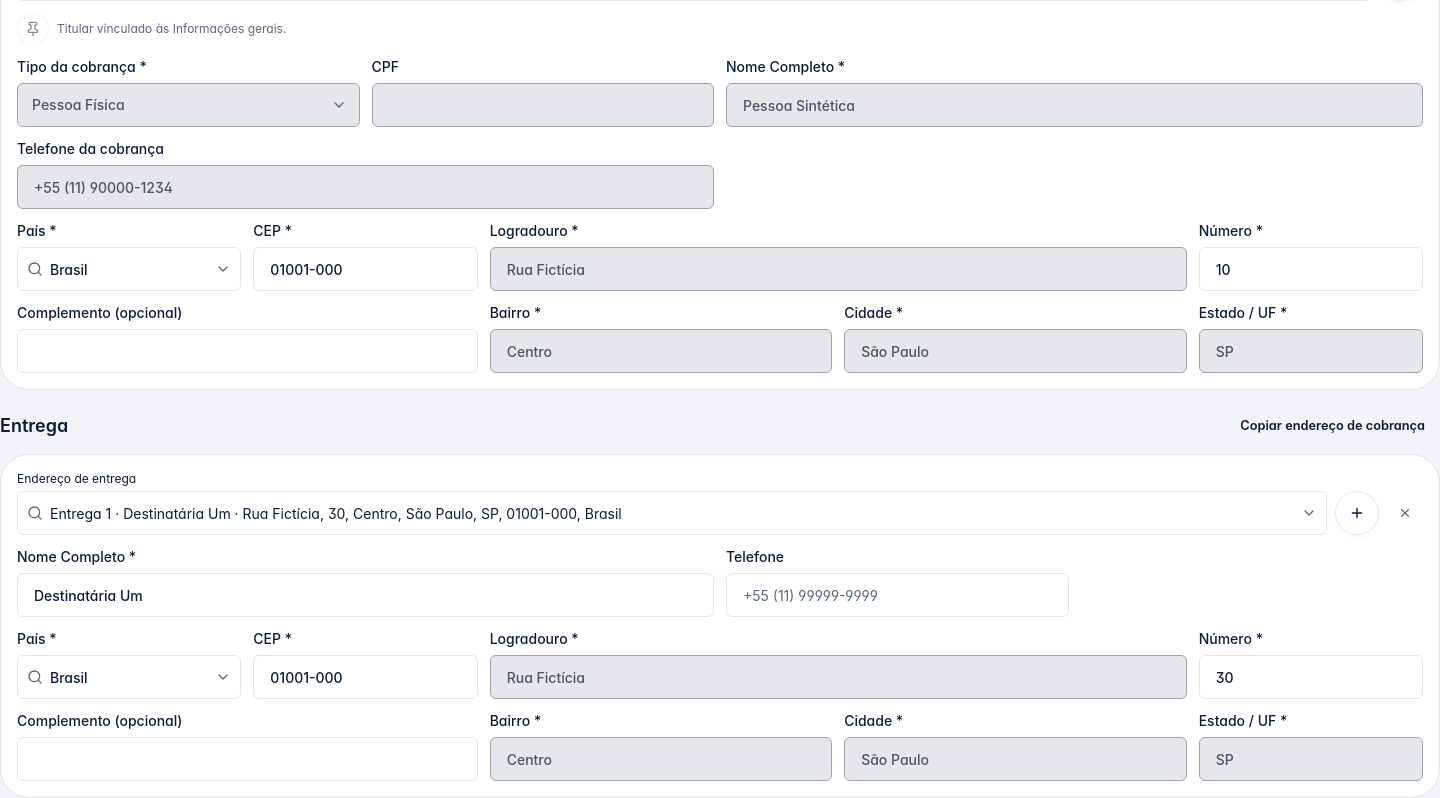
Test: inclusão temporária e endereço postal único › não deixa o CEP incompleto da consulta passar por campos brasileiros somente leitura
The width and height of the screenshot is (1440, 798).
(page scrolled)
Step 1. Click the button named "Adicionar endereço de entrega" → (1357, 513), box [1335,491,1379,535]
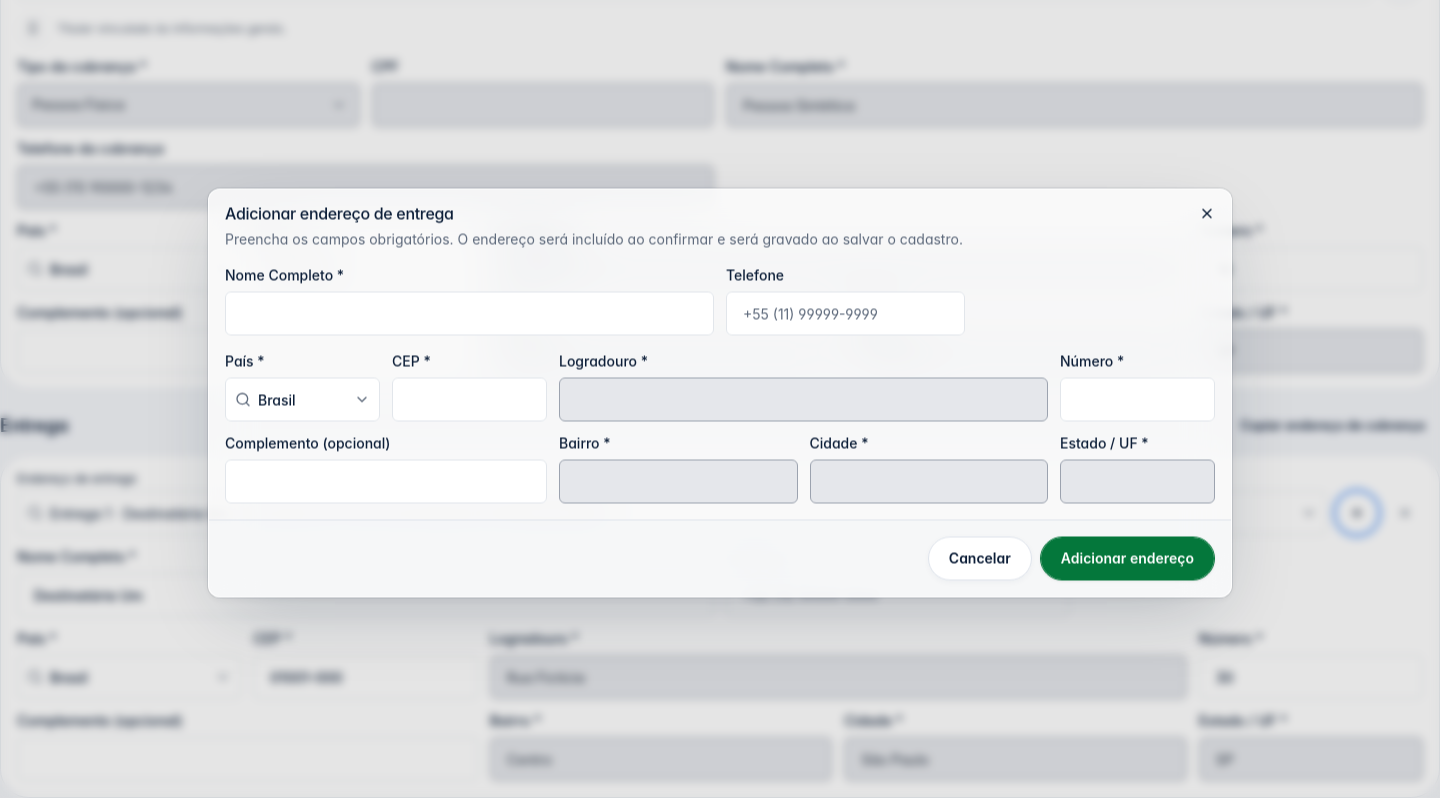
Step 2. Type "Destinatária Completa" into the field labelled "Nome Completo *" → (470, 314), box [225,292,714,336]
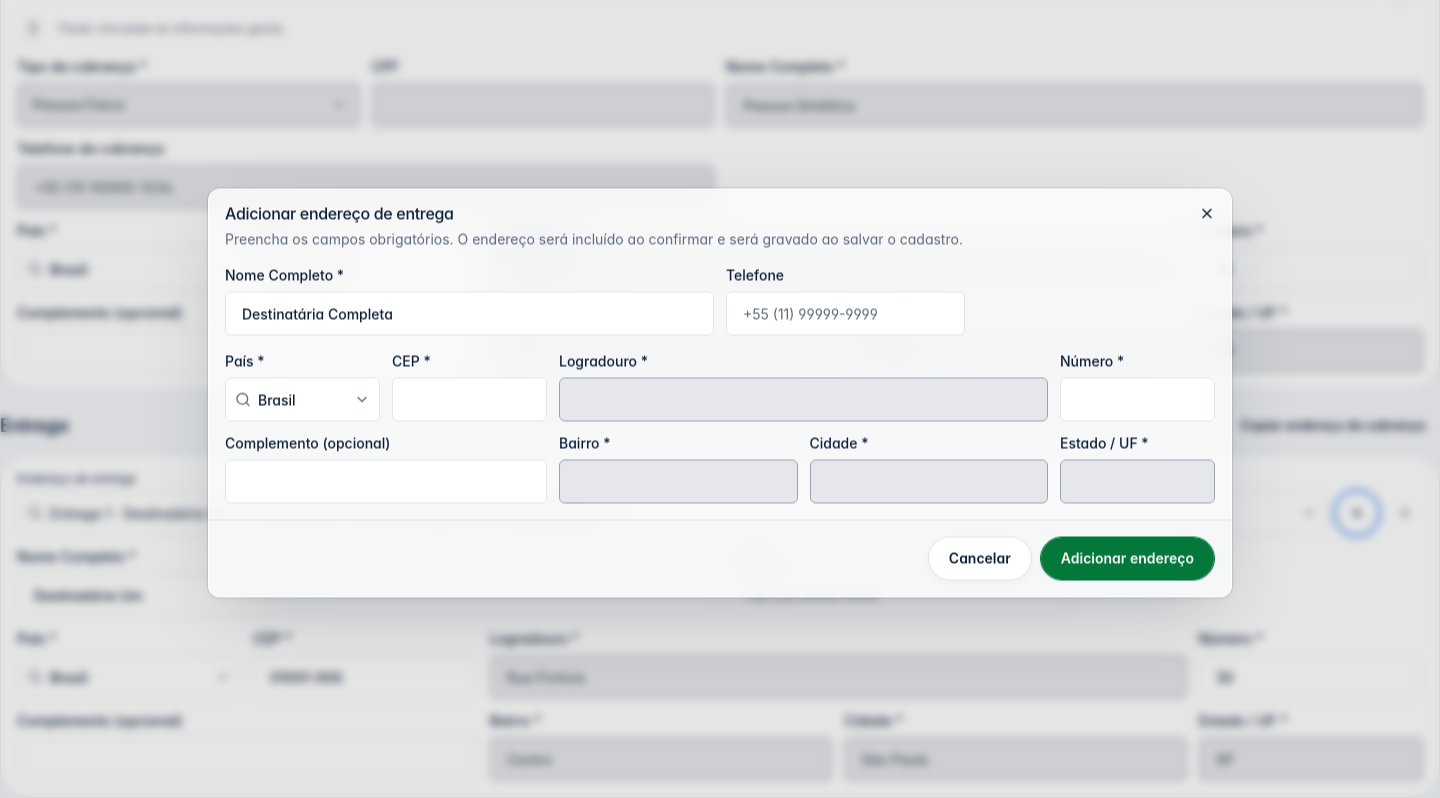
Step 3. Type "01001000" into the field labelled "CEP *" → (470, 400), box [392,378,547,422]
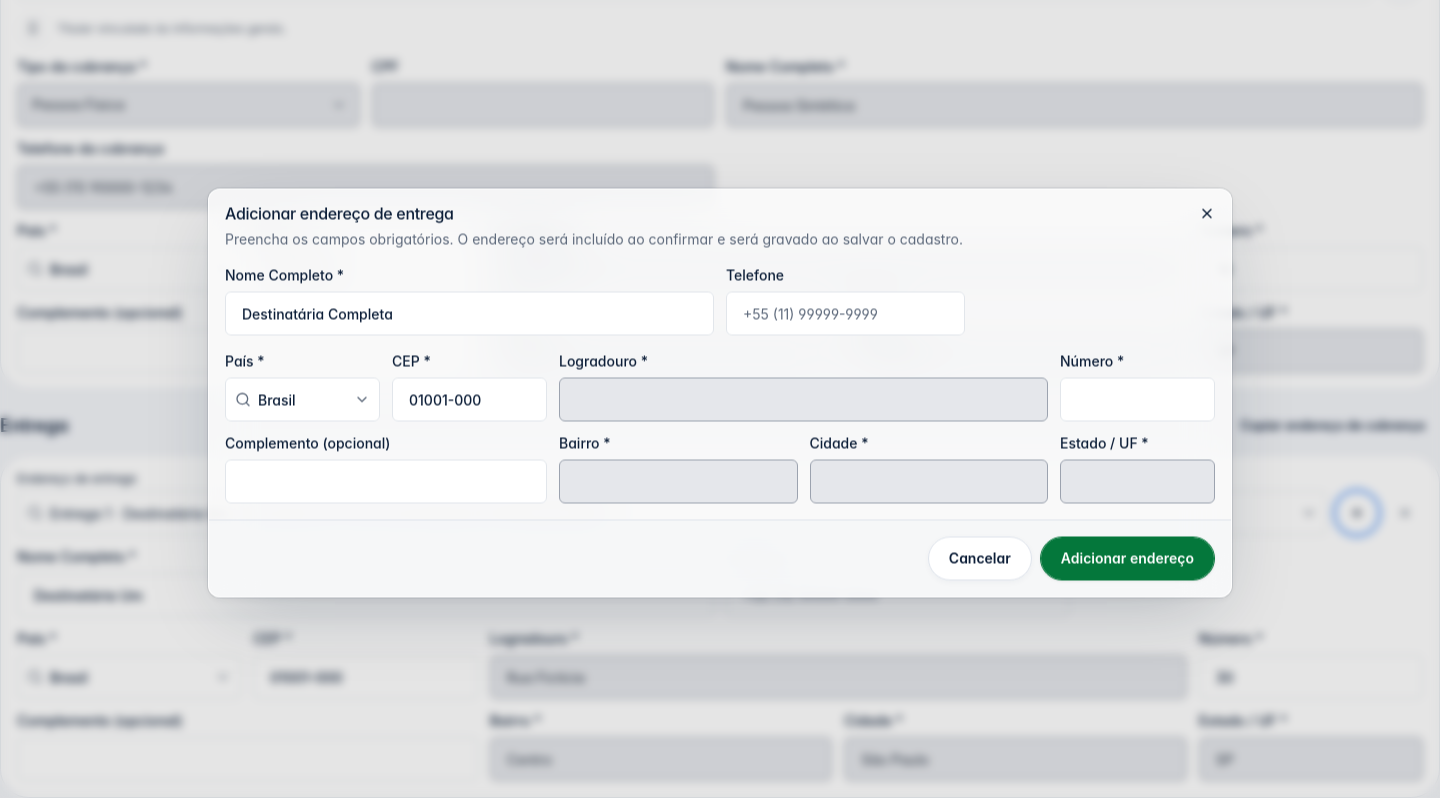
Step 4. Leave the field labelled "CEP *", box [392,378,547,422]
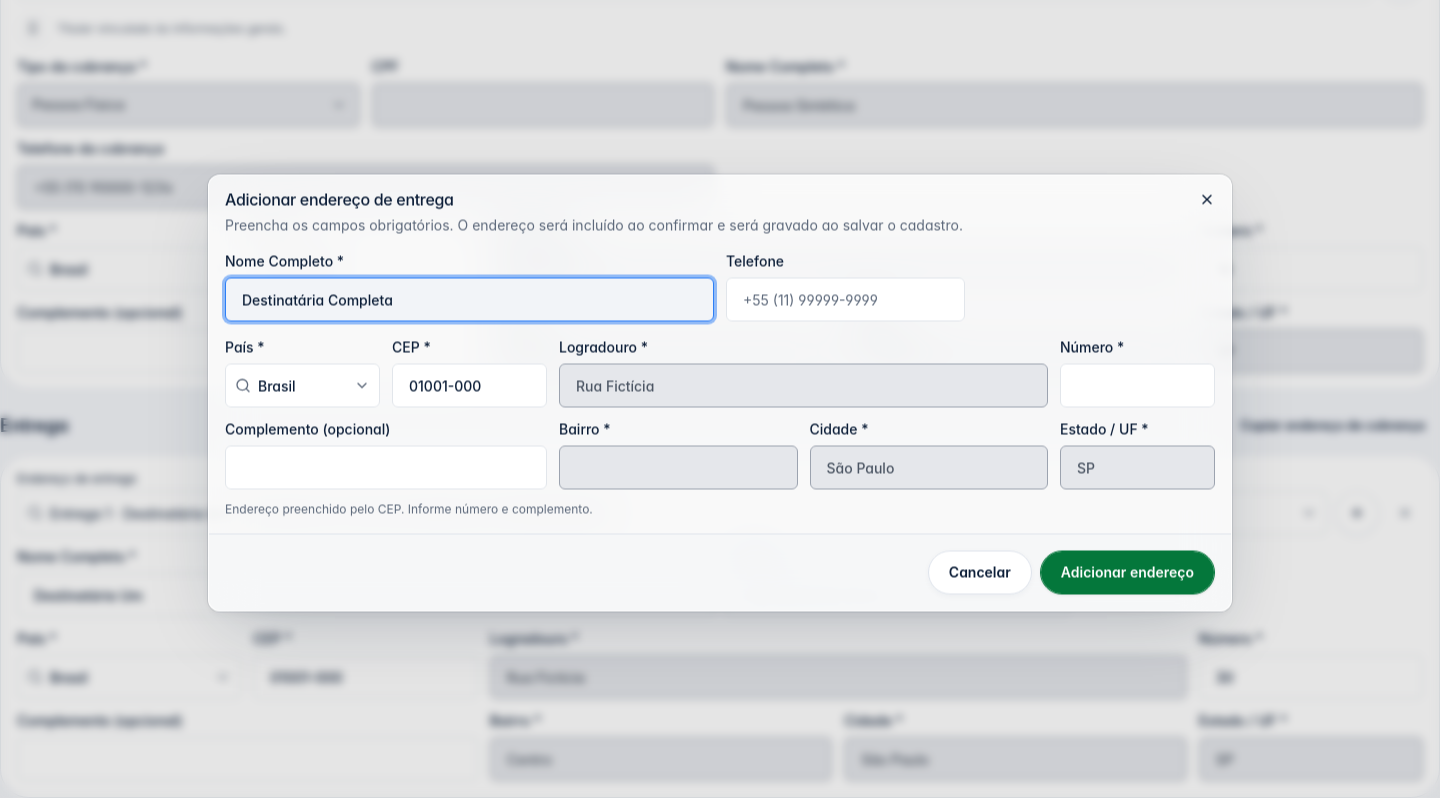
Expected: the field labelled "Logradouro *" holds "Rua Fictícia", [559,364,1048,408]
Step 5. Type "40" into the field labelled "Número *" → (1138, 386), box [1060,364,1215,408]
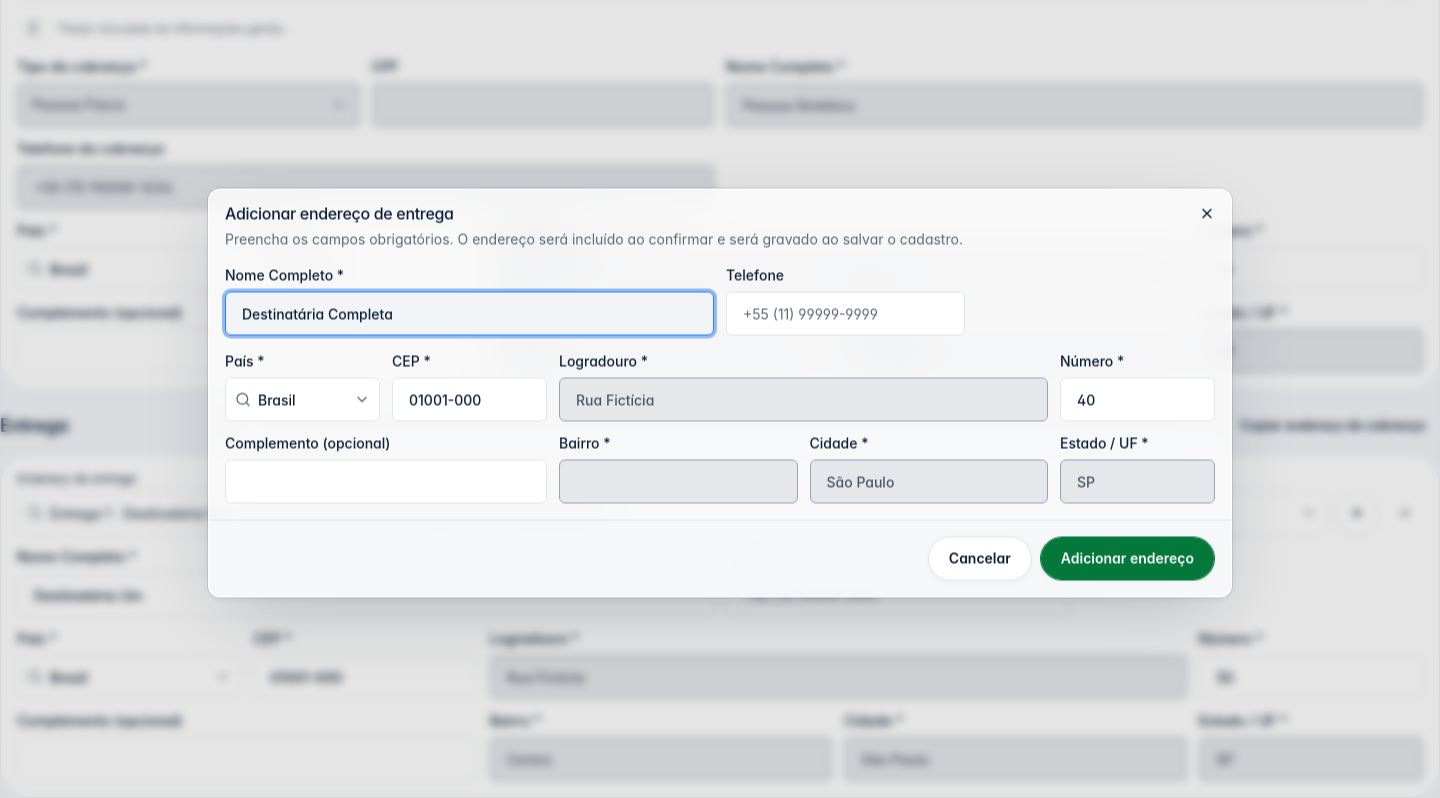
Step 6. Click the button "Adicionar endereço" → (1127, 558), box [1040,536,1215,580]
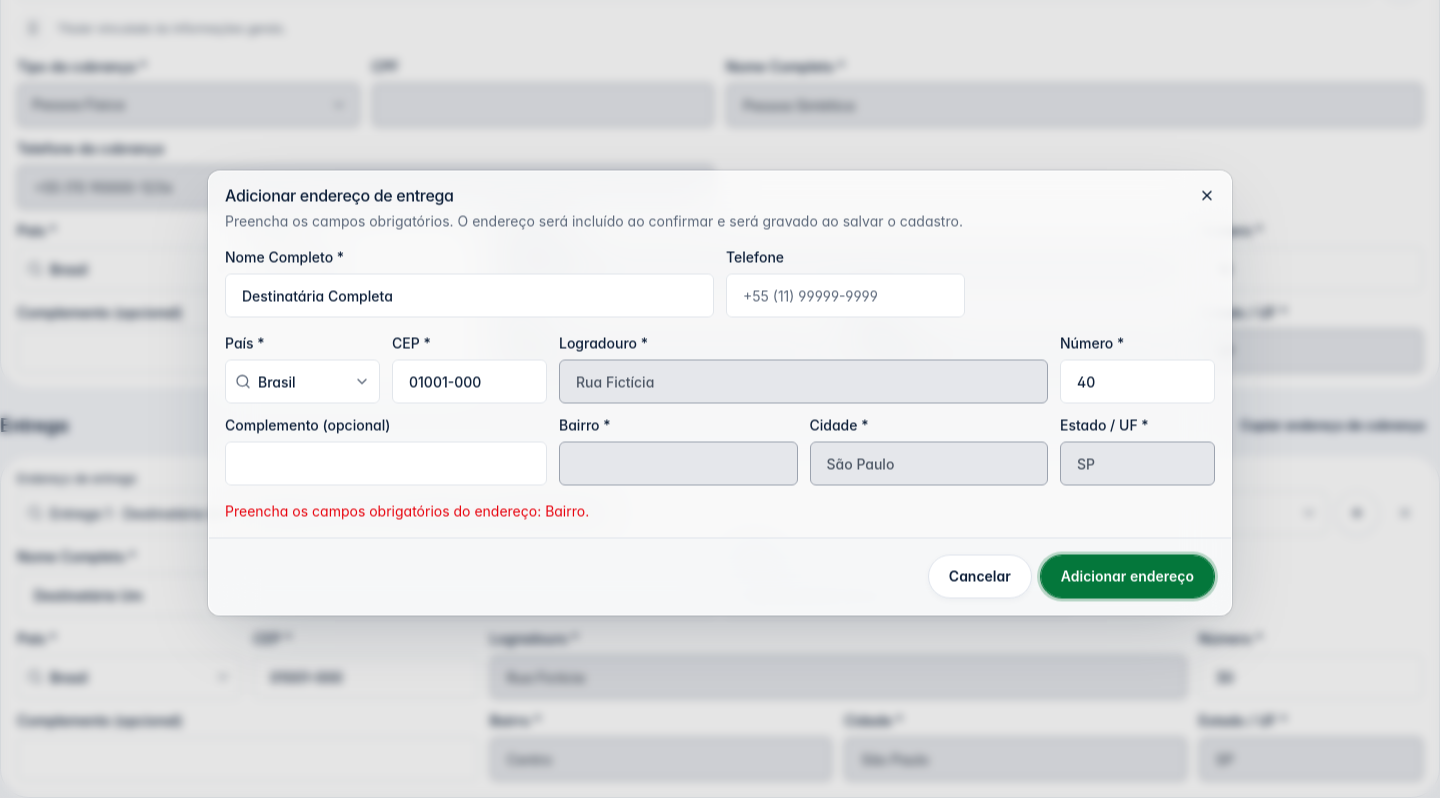
Expected: the message shows "Bairro", [225,502,589,520]
